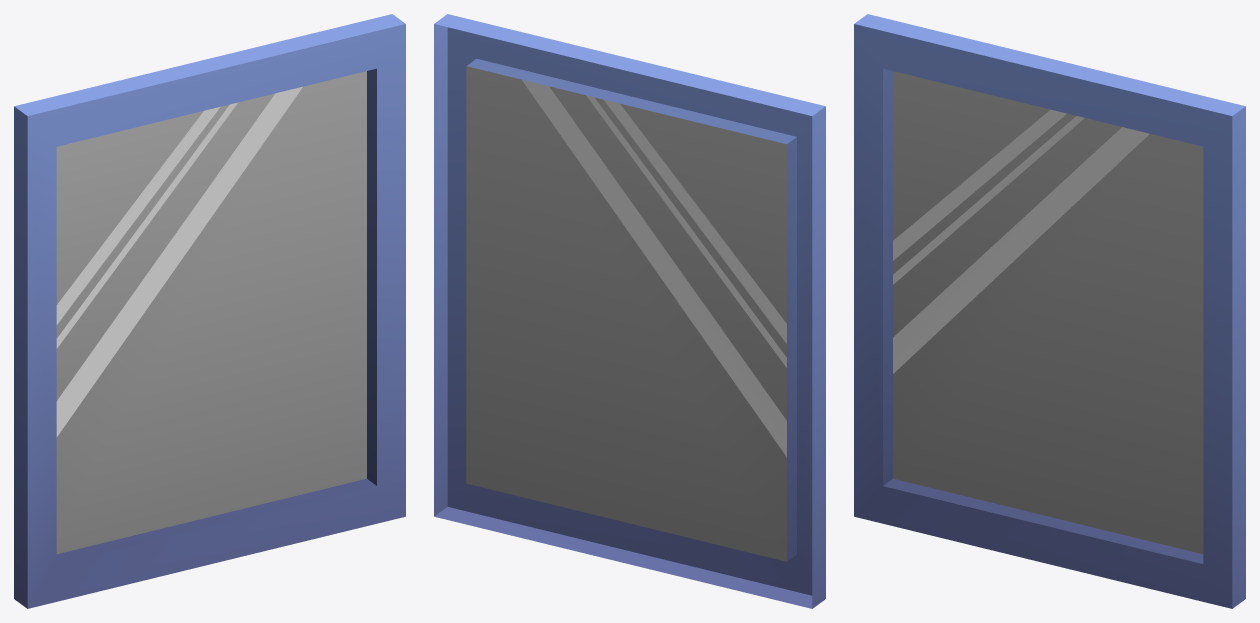
The model's file is paint.fbx.
3 views of the same model, side by side, from view 1: azimuth 30°, elevation 25°; view 2: azimuth 150°, elevation 25°; view 3: azimuth 330°, elevation 25° (orthographic).
Parts seen in each view (by area): view 1: Paint; view 2: Paint; view 3: Paint.
Part boxes in pixels (<box>): Paint: <box>14,14,405,608</box>; Paint: <box>434,14,825,608</box>; Paint: <box>854,14,1245,608</box>.
Bounding box in the file's own units: 200 × 249 × 12.41.
